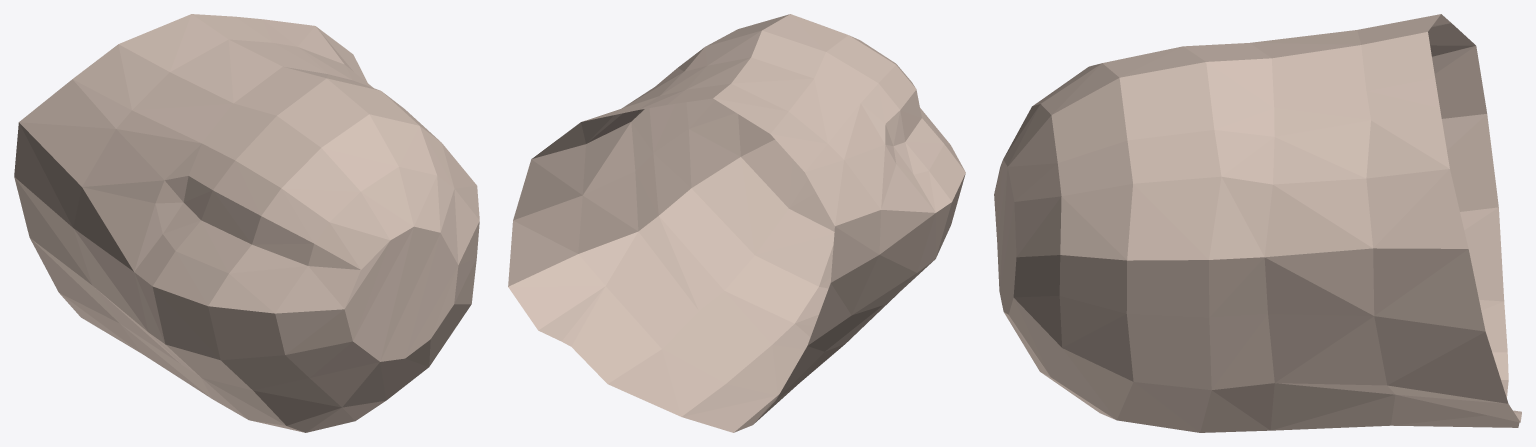
Rendered from RElbowLink.dae.
The picture shows the model from 3 angles, left to right: view 1: azimuth 30°, elevation 25°; view 2: azimuth 150°, elevation 25°; view 3: azimuth 270°, elevation 25°; orthographic projection. The views are drawn at different scales.
Visible parts, largest first — view 1: ShapeIndexedFaceSet; view 2: ShapeIndexedFaceSet; view 3: ShapeIndexedFaceSet.
Part boxes in pixels (x1=…): ShapeIndexedFaceSet: x1=14, y1=14, x2=479, y2=432; ShapeIndexedFaceSet: x1=508, y1=14, x2=965, y2=432; ShapeIndexedFaceSet: x1=994, y1=14, x2=1521, y2=432.
Bounding box in the file's own units: 0.0985 × 0.1111 × 0.089.
